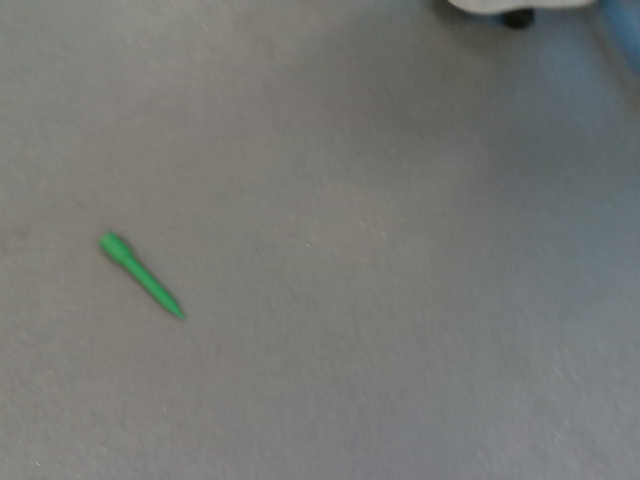Probe: (93, 226, 191, 327)
